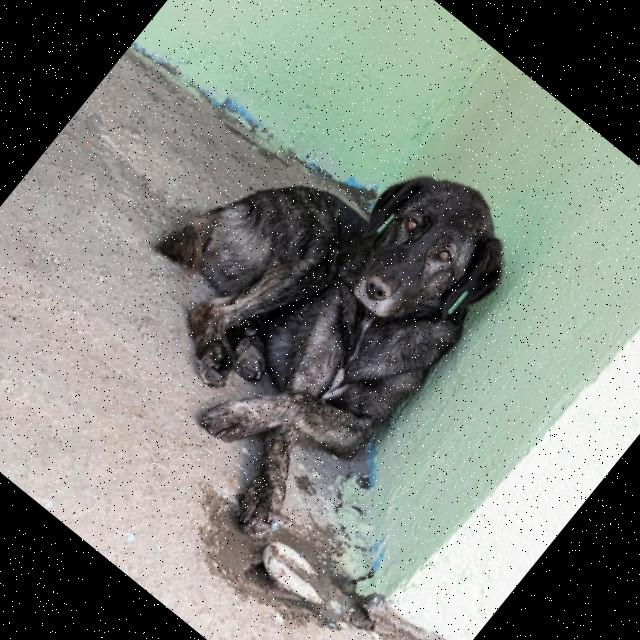Dog: (51, 54, 542, 562)
